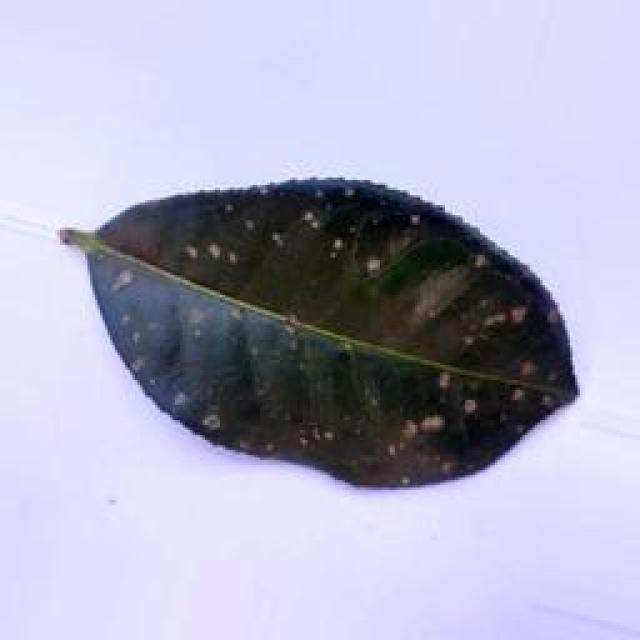Algal Leaf Spot: (64, 158, 579, 504)
